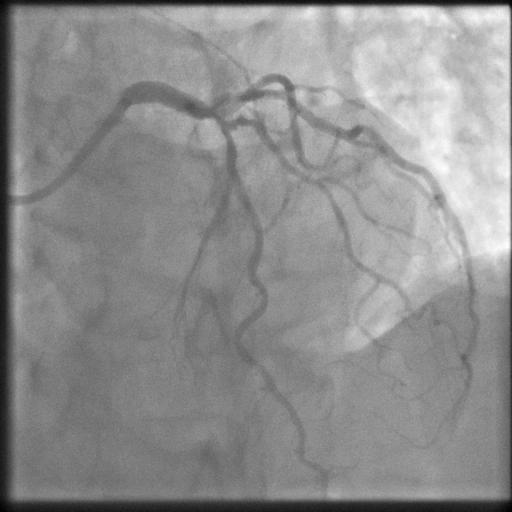Stenosis: (206, 106, 232, 146)
